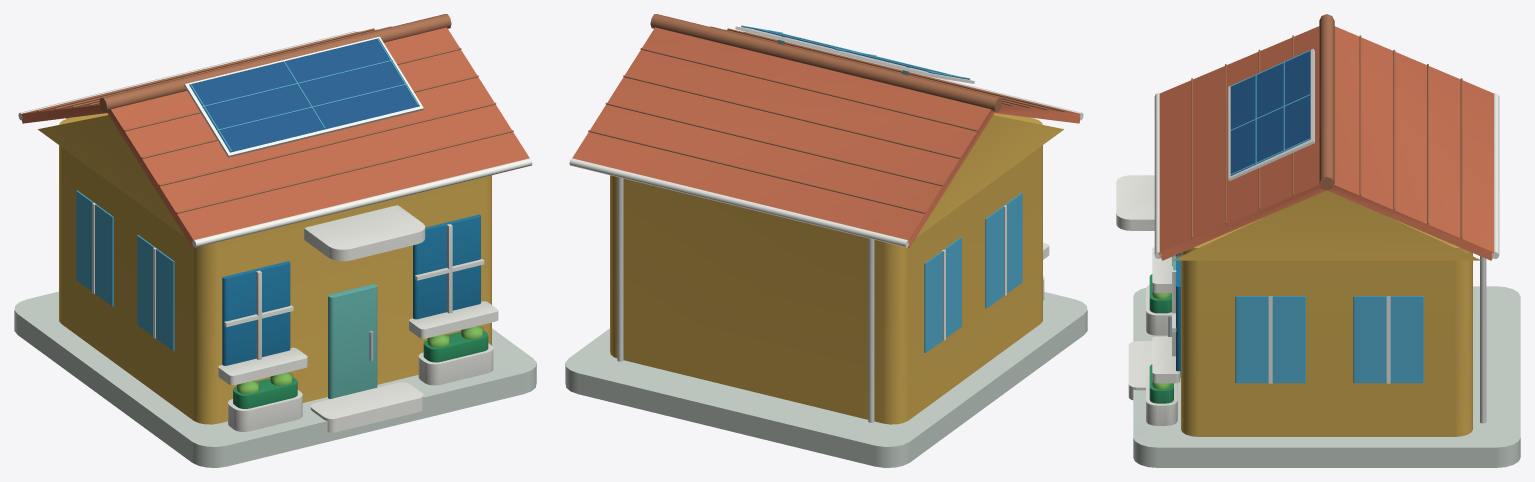
The model's file is solar-cottage-low.glb.
3 renders of one model, left to right at view 1: azimuth 30°, elevation 25°; view 2: azimuth 150°, elevation 25°; view 3: azimuth 270°, elevation 25°, orthographic. The views are drawn at different scales.
Parts seen in each view (by area): view 1: warm plaster house, terracotta roof slopes, rounded rain gutter, garden house foundation, photovoltaic cells, deep blue window reveal, solar cell division, rounded ridge cap, entry recessed door, planter foliage, shrub tip; view 2: warm plaster house, terracotta roof slopes, garden house foundation, rounded ridge cap, rounded rain gutter, solar cell division; view 3: warm plaster house, terracotta roof slopes, garden house foundation, solar cell division, rounded rain gutter, photovoltaic cells, rounded ridge cap, planter foliage, deep blue window reveal.
Part boxes in pixels (x1,y1,x2,y2): warm plaster house: (38,113,491,424); terracotta roof slopes: (21,27,529,247); rounded rain gutter: (18,31,532,432); garden house foundation: (14,291,536,467); photovoltaic cells: (189,38,419,152); deep blue window reveal: (222,214,480,365); solar cell division: (76,38,418,350); rounded ridge cap: (37,14,513,213); entry recessed door: (328,284,377,398); planter foliage: (233,331,488,408); shrub tip: (236,326,483,393); warm plaster house: (610,113,1063,424); terracotta roof slopes: (572,27,1080,247); garden house foundation: (565,292,1087,467); rounded ridge cap: (588,14,1064,213); rounded rain gutter: (569,26,1083,422); solar cell division: (741,25,1022,352); warm plaster house: (1172,190,1481,436); terracotta roof slopes: (1158,26,1493,260); garden house foundation: (1133,286,1520,467); solar cell division: (1230,50,1423,383); rounded rain gutter: (1116,48,1499,425); photovoltaic cells: (1230,50,1310,175); rounded ridge cap: (1191,14,1462,238); planter foliage: (1149,274,1173,403); deep blue window reveal: (1176,253,1180,373).
Size of the model in its own units: 3.43 by 2.88 by 3.6.
